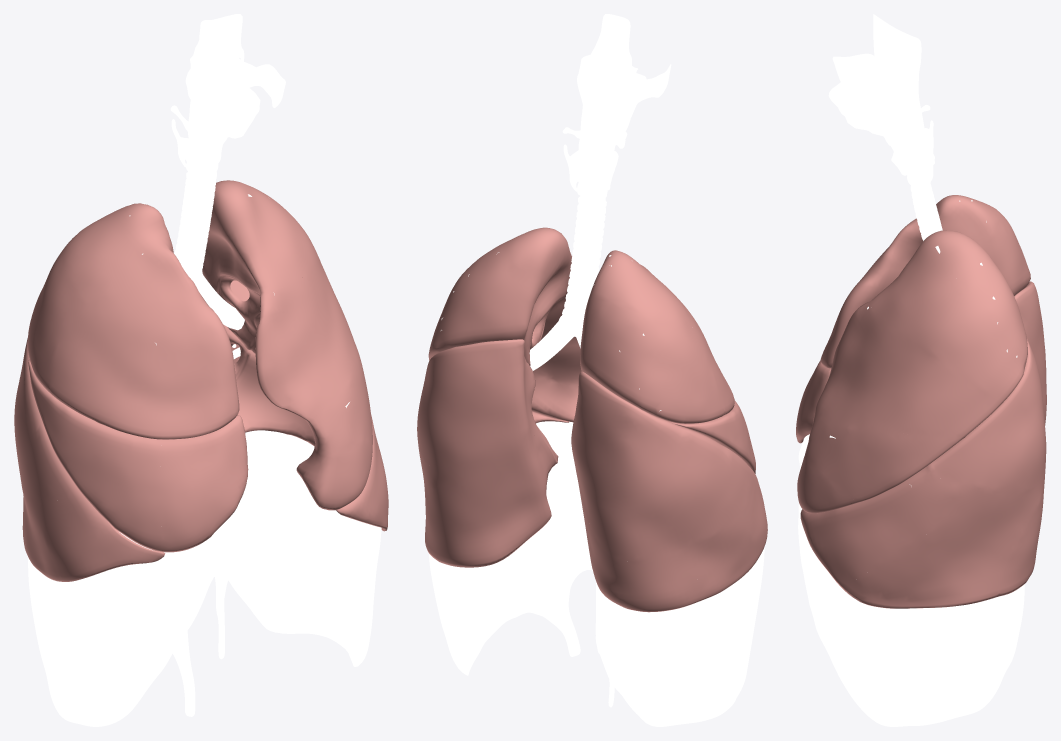
Rendered from airway.glb.
3 renders of one model, left to right at view 1: azimuth 30°, elevation 25°; view 2: azimuth 150°, elevation 25°; view 3: azimuth 270°, elevation 25°, orthographic. The views are drawn at different scales.
Visible parts, largest first — view 1: Diaphragm, Superior lobe of right lung, Superior lobe of left lung, Middle lobe of right lung, Inferior lobe of right lung, Inferior lobe of left lung, Trachea, Tongue, Oropharynx, Nasopharynx, Thyroid cartilage, Soft palate (+1 smaller); view 2: Diaphragm, Inferior lobe of right lung, Inferior lobe of left lung, Superior lobe of right lung, Superior lobe of left lung, Oropharynx, Trachea, Nasopharynx, Middle lobe of right lung, Laryngopharynx, Left main bronchus, Thyroid cartilage; view 3: Superior lobe of left lung, Inferior lobe of left lung, Diaphragm, Superior lobe of right lung, Oropharynx, Nasopharynx, Inferior lobe of right lung, Tongue, Middle lobe of right lung, Thyroid cartilage, Trachea, Laryngopharynx (+2 smaller).
Part boxes in pixels (bbox=[...]): Diaphragm: bbox=[28, 430, 381, 726]; Superior lobe of right lung: bbox=[27, 203, 239, 439]; Superior lobe of left lung: bbox=[202, 180, 372, 510]; Middle lobe of right lung: bbox=[28, 359, 248, 552]; Inferior lobe of right lung: bbox=[14, 338, 165, 581]; Inferior lobe of left lung: bbox=[223, 280, 388, 531]; Trachea: bbox=[174, 172, 216, 280]; Tongue: bbox=[198, 81, 260, 138]; Oropharynx: bbox=[185, 48, 285, 123]; Nasopharynx: bbox=[190, 14, 244, 70]; Thyroid cartilage: bbox=[171, 119, 227, 170]; Soft palate: bbox=[190, 48, 250, 80]; Diaphragm: bbox=[429, 421, 764, 726]; Inferior lobe of right lung: bbox=[571, 371, 767, 612]; Inferior lobe of left lung: bbox=[417, 339, 568, 567]; Superior lobe of right lung: bbox=[580, 250, 734, 423]; Superior lobe of left lung: bbox=[428, 227, 581, 422]; Oropharynx: bbox=[577, 54, 671, 134]; Trachea: bbox=[558, 195, 606, 336]; Nasopharynx: bbox=[581, 14, 631, 82]; Middle lobe of right lung: bbox=[669, 400, 755, 473]; Laryngopharynx: bbox=[577, 127, 620, 200]; Left main bronchus: bbox=[529, 310, 573, 370]; Thyroid cartilage: bbox=[563, 144, 618, 197]; Superior lobe of left lung: bbox=[797, 230, 1027, 513]; Inferior lobe of left lung: bbox=[800, 338, 1046, 608]; Diaphragm: bbox=[798, 434, 1024, 726]; Superior lobe of right lung: bbox=[820, 195, 1030, 368]; Oropharynx: bbox=[832, 53, 922, 128]; Nasopharynx: bbox=[873, 14, 921, 78]; Inferior lobe of right lung: bbox=[1014, 281, 1046, 425]; Tongue: bbox=[828, 78, 900, 136]; Middle lobe of right lung: bbox=[796, 360, 831, 443]; Thyroid cartilage: bbox=[891, 120, 933, 183]; Trachea: bbox=[910, 183, 942, 240]; Laryngopharynx: bbox=[891, 119, 934, 187].
Size of the model in its own units: 0.261 by 0.549 by 0.1857.
